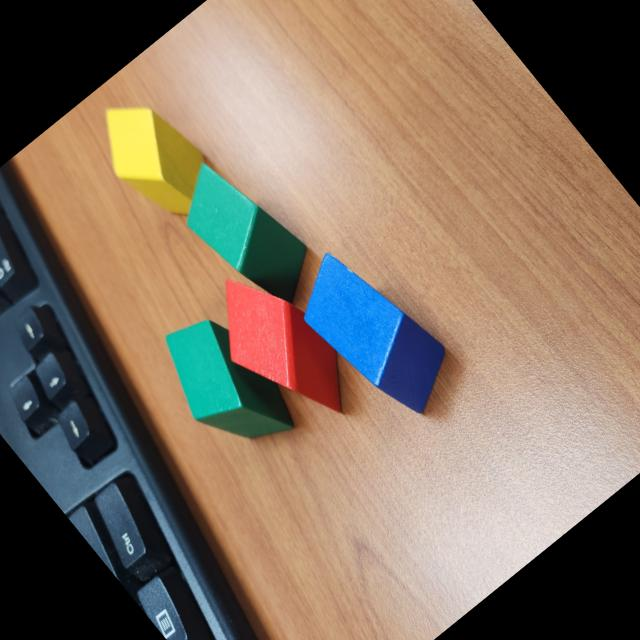blue: (280, 230, 470, 434)
green: (162, 143, 332, 325), (142, 295, 313, 474)
red: (189, 247, 376, 446)
yellow: (78, 78, 232, 240)
